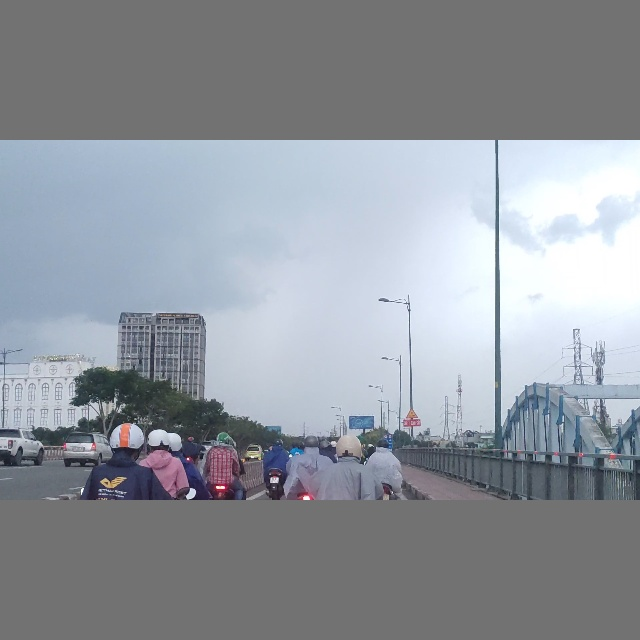W.245a: (405, 407, 419, 419)
